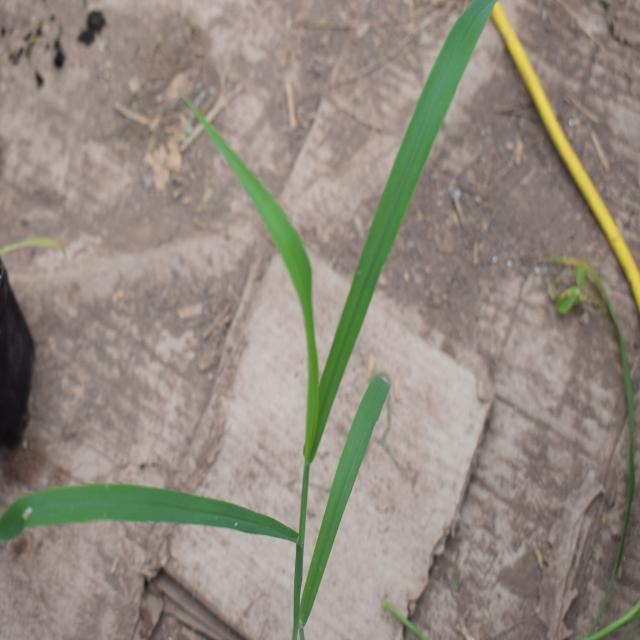crabgrass: (71, 42, 432, 562)
